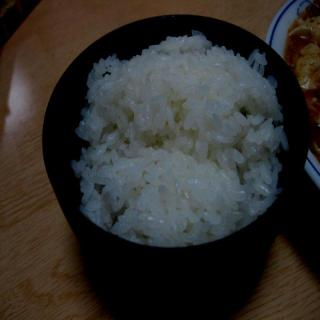Nasi: (70, 29, 290, 249)
